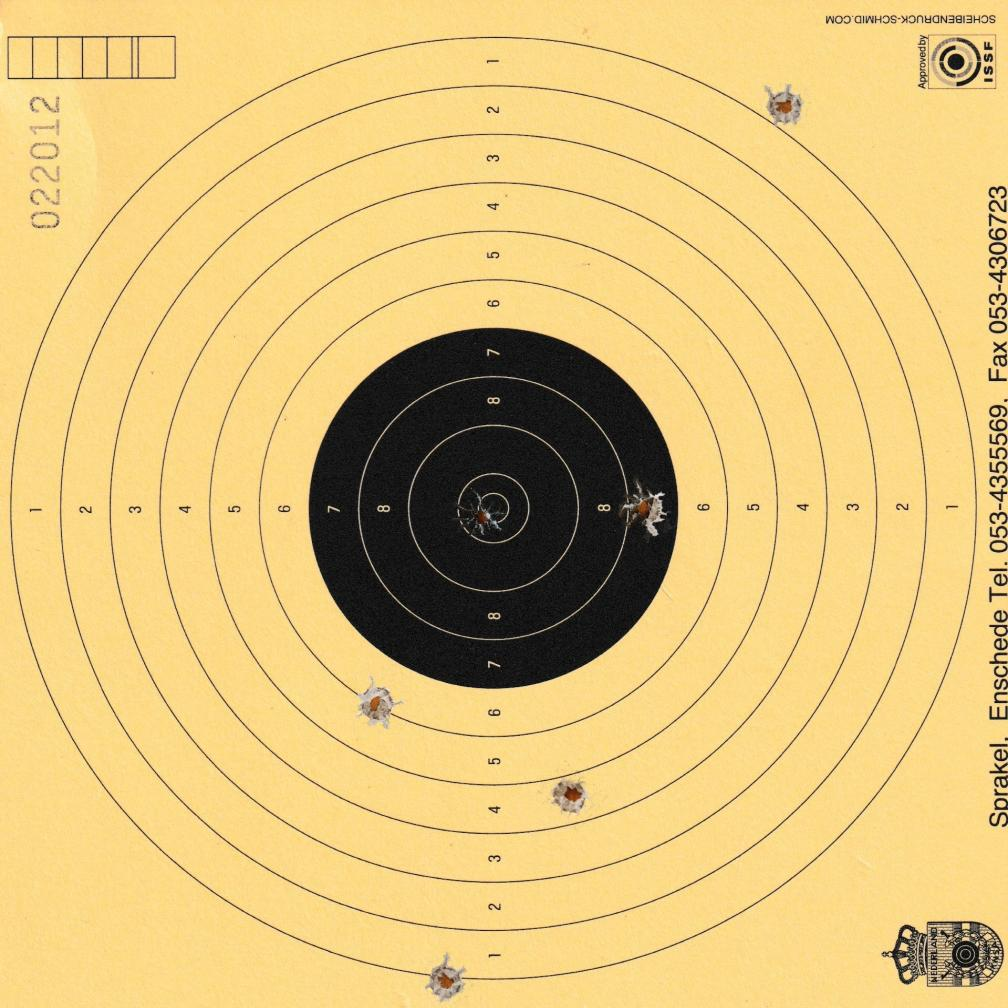1: (419, 951, 473, 1004), (757, 81, 811, 132)
10: (449, 481, 508, 544)
4: (546, 772, 594, 818)
6: (346, 674, 408, 733)
8: (618, 474, 672, 544)
Target: (7, 31, 982, 983)
black_contour: (310, 326, 678, 690)
